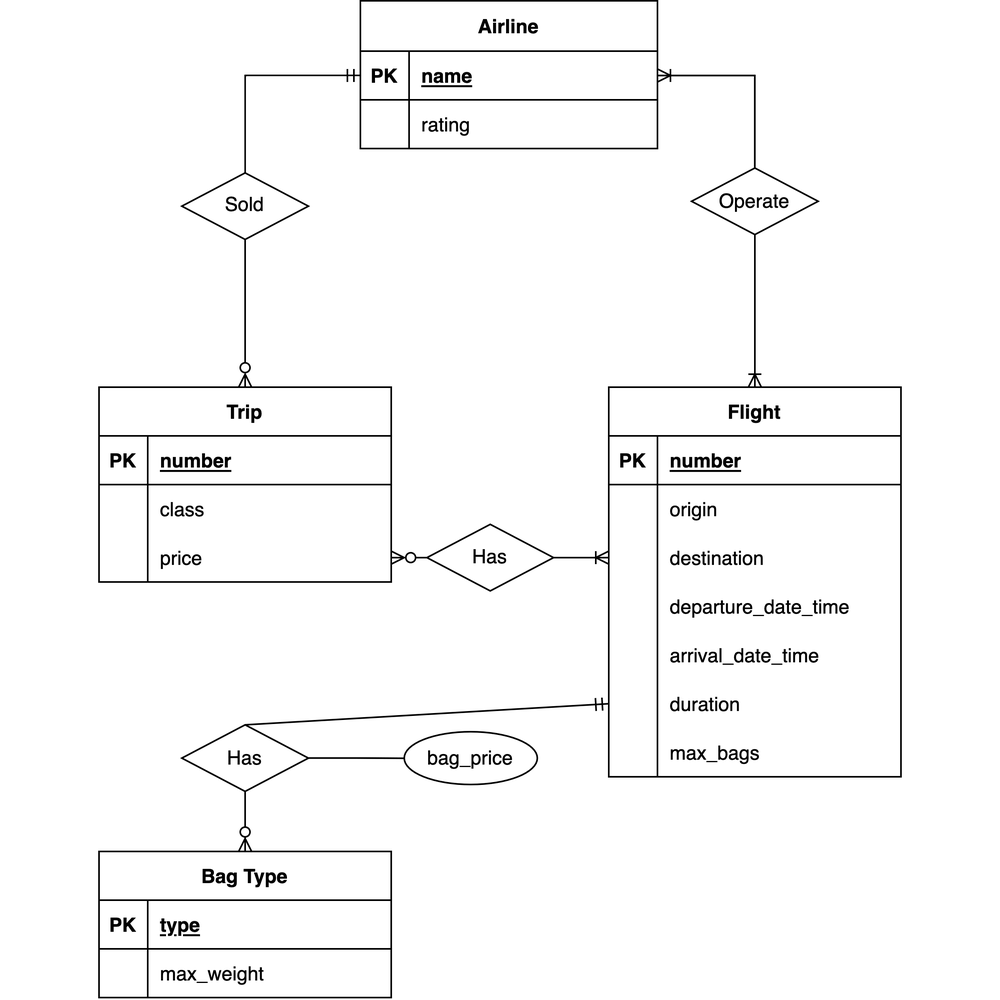attribute: (392, 726, 542, 791)
entity: (603, 382, 911, 788), (87, 379, 410, 600), (88, 844, 406, 1000), (355, 1, 671, 152)
relationship: (421, 507, 561, 601), (681, 162, 825, 240), (179, 715, 311, 797), (181, 171, 313, 239)
